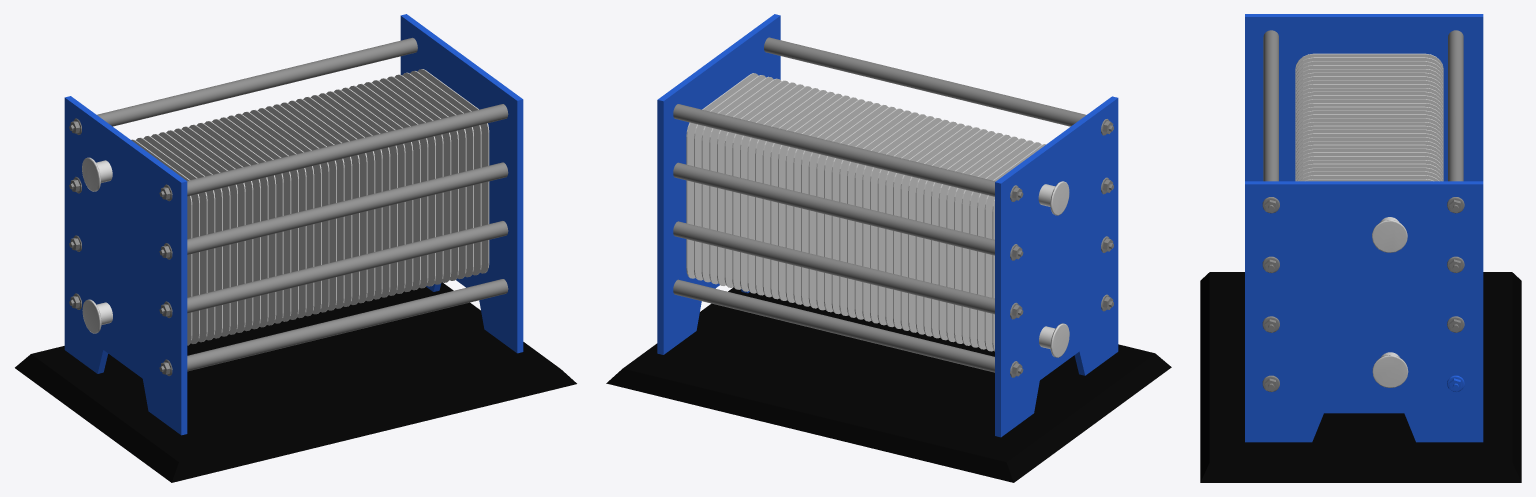
The model's file is 板式换热器-制冷.glb.
The picture shows the model from 3 angles, left to right: view 1: azimuth 30°, elevation 25°; view 2: azimuth 150°, elevation 25°; view 3: azimuth 270°, elevation 25°; orthographic projection. The views are drawn at different scales.
Parts seen in each view (by area): view 1: 平面.069, 立方体.311, 立方体.313, 立方体.312, 柱体.395, 柱体.398, 柱体.380, 柱体.401, 柱体.404; view 2: 平面.069, 立方体.311, 立方体.313, 立方体.312, 柱体.404, 柱体.411, 柱体.414, 柱体.417, 柱体.380; view 3: 立方体.312, 立方体.311, 平面.069, 立方体.313, 柱体.380, 柱体.404, 柱体.379, 柱体.377.
Part boxes in pixels (box(x1,y1,x2,y2)): 平面.069: box(131, 69, 489, 345); 立方体.311: box(15, 282, 576, 482); 立方体.313: box(64, 96, 187, 435); 立方体.312: box(400, 14, 523, 353); 柱体.395: box(187, 162, 508, 254); 柱体.398: box(187, 221, 508, 313); 柱体.380: box(187, 104, 508, 196); 柱体.401: box(187, 279, 508, 371); 柱体.404: box(97, 37, 417, 126); 平面.069: box(686, 73, 1045, 351); 立方体.311: box(606, 287, 1171, 482); 立方体.313: box(995, 96, 1118, 437); 立方体.312: box(657, 14, 780, 354); 柱体.404: box(673, 104, 995, 196); 柱体.411: box(673, 162, 994, 255); 柱体.414: box(673, 221, 994, 314); 柱体.417: box(673, 279, 994, 372); 柱体.380: box(764, 37, 1085, 126); 立方体.312: box(1245, 181, 1483, 442); 立方体.311: box(1200, 272, 1521, 482); 平面.069: box(1295, 53, 1443, 181); 立方体.313: box(1245, 14, 1483, 181); 柱体.380: box(1263, 30, 1278, 181); 柱体.404: box(1448, 30, 1463, 181); 柱体.379: box(1372, 355, 1408, 387); 柱体.377: box(1372, 220, 1407, 252).
Size of the model in its own units: 145 by 94.43 by 97.35.
